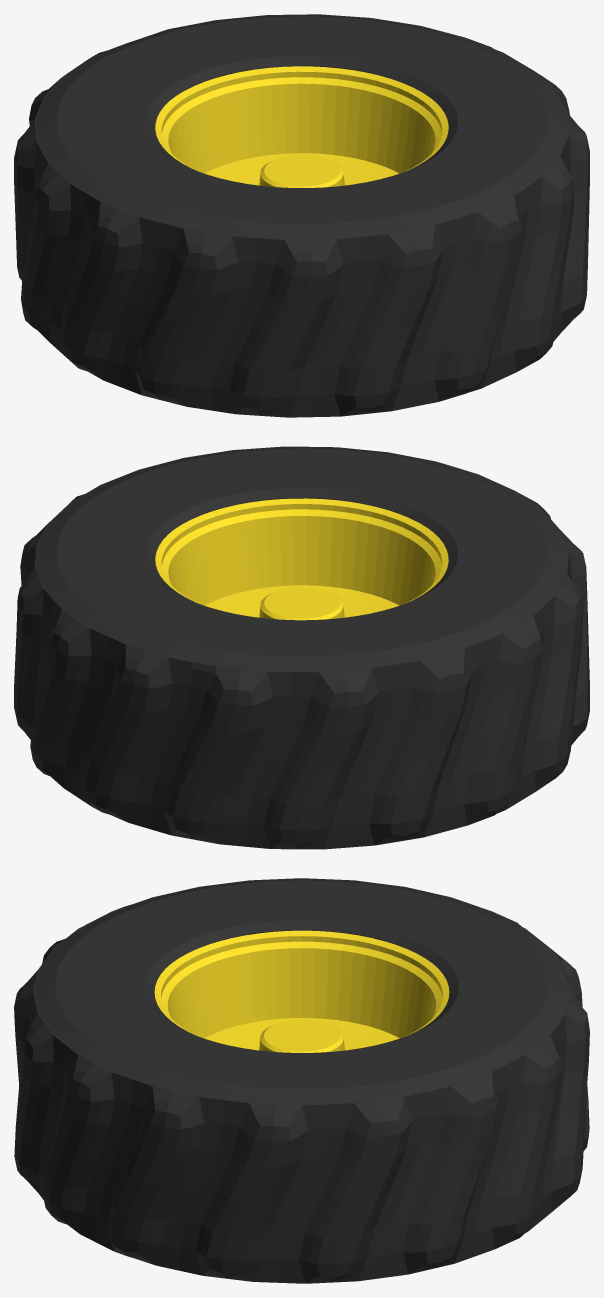
Rendered from wheel.FBX.
3 views of the same model, one above another, from view 1: azimuth 30°, elevation 25°; view 2: azimuth 150°, elevation 25°; view 3: azimuth 270°, elevation 25° (orthographic).
Visible parts, largest first — view 1: Cylinder; view 2: Cylinder; view 3: Cylinder.
Part boxes in pixels (x1,y1,x2,y2): Cylinder: (14, 14, 589, 417); Cylinder: (14, 446, 589, 849); Cylinder: (14, 878, 589, 1283).
Size of the model in its own units: 29.96 by 11.03 by 29.96.
